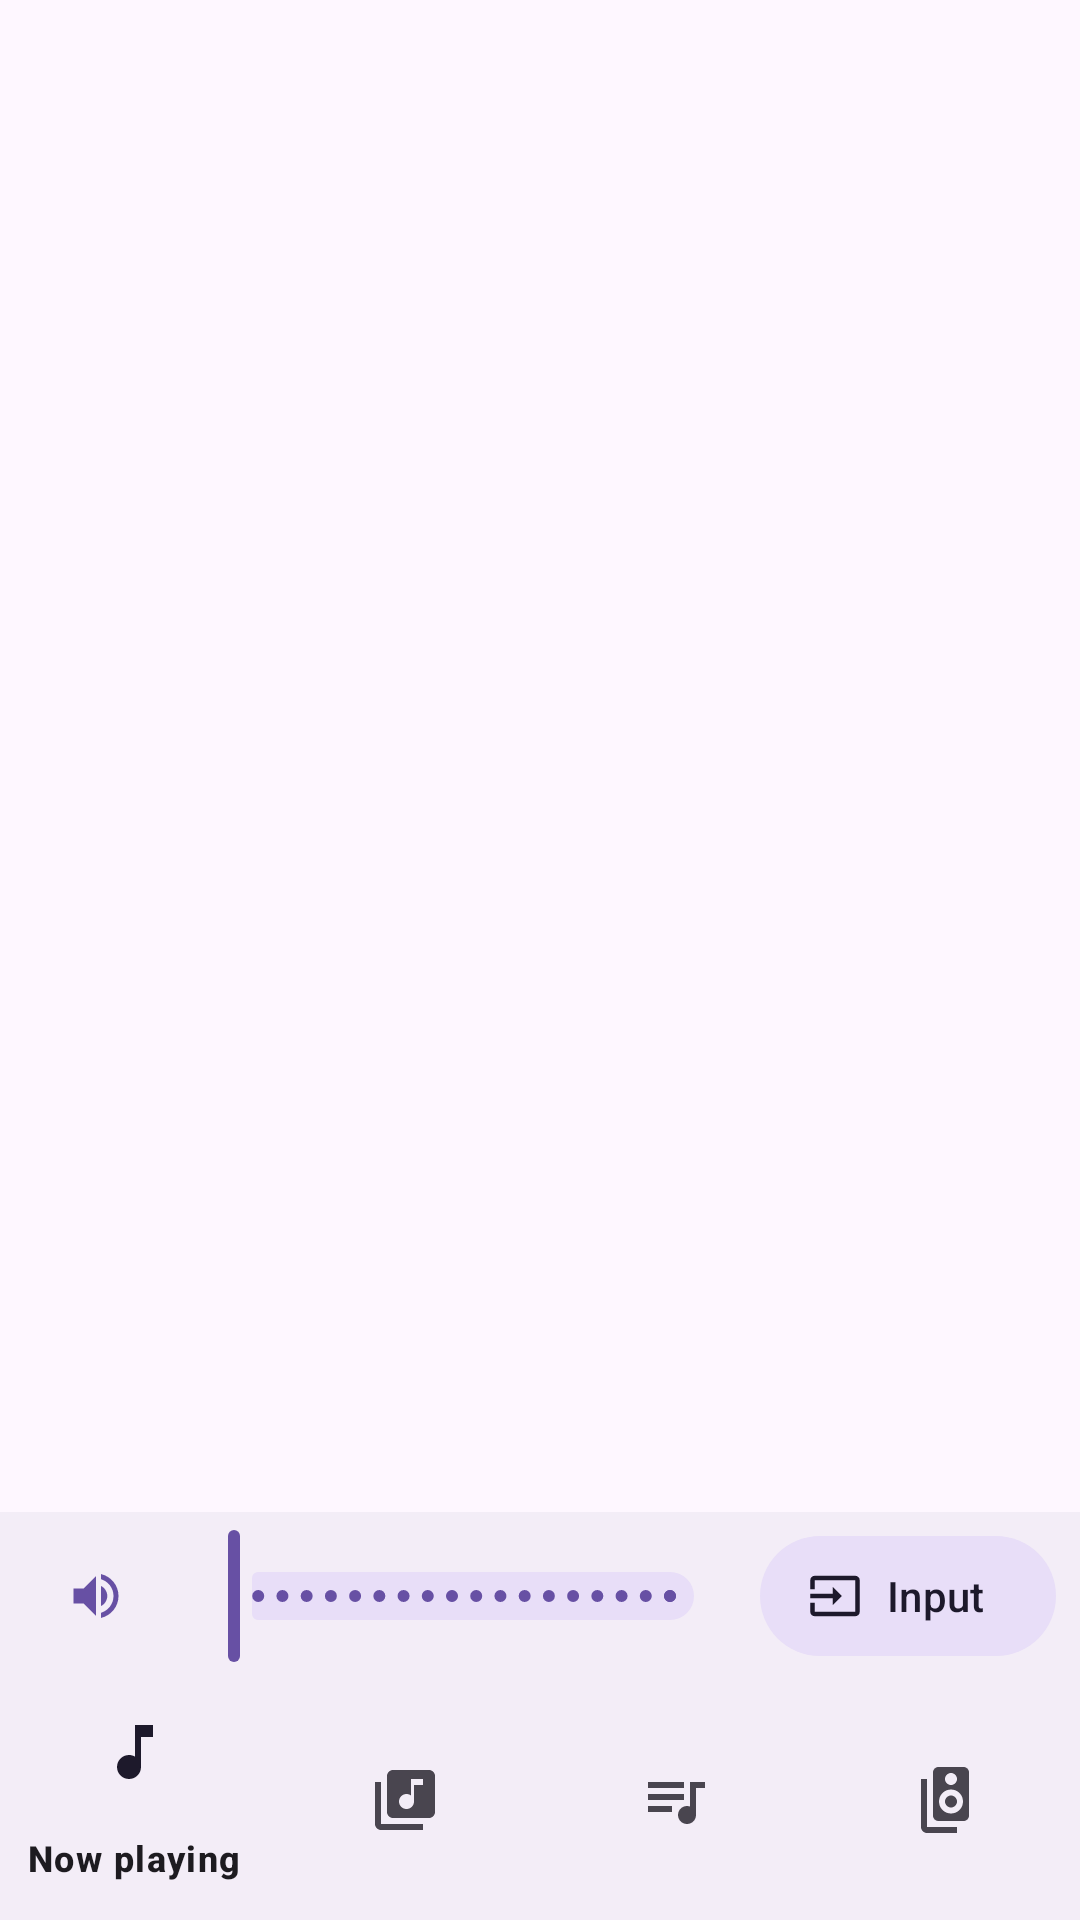

Icons on this 1080px×1920px Android screen, each with the point to tap as [x,y]:
Mute: [96,1596]
